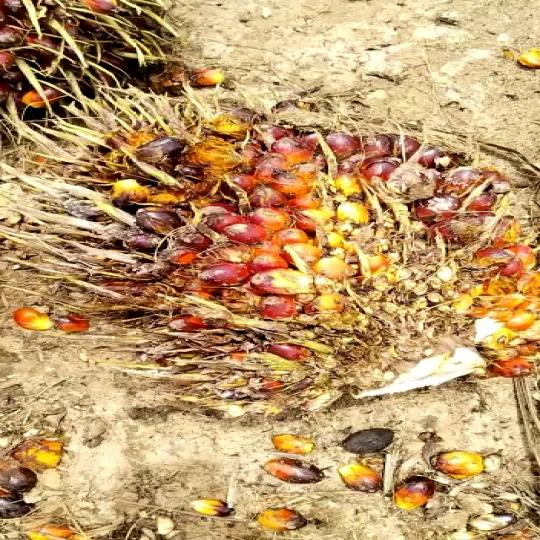masak: (56, 102, 540, 404)
